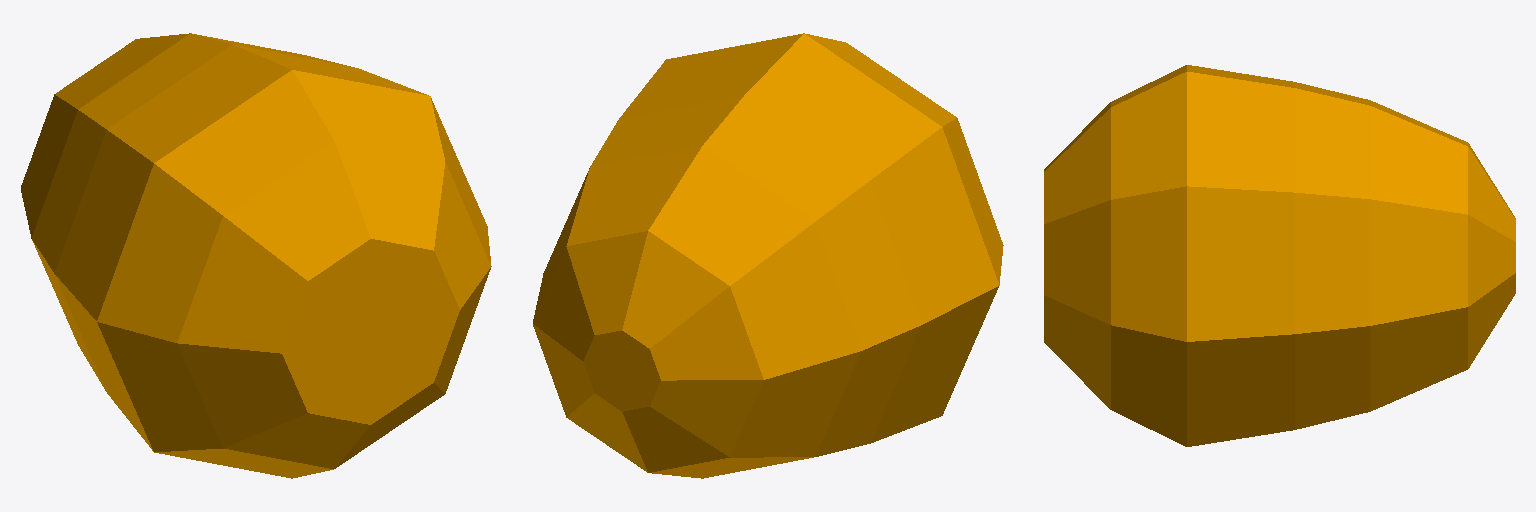
robot.urdf — seeded_black_olive:
<?xml version="1.0"?>
<robot name="seeded_black_olive">
  <link name="seeded_black_olive">
    <inertial>
        <origin rpy="0 0 0" xyz="0 0 0"/>
        <mass value="0.01"/>
        <inertia ixx="4.4e-5" ixy="0" ixz="0" iyy="0" iyz="0" izz="4.4e-5"/>
    </inertial>
    <visual>
      <geometry>
        <mesh filename="BlackOlive.obj"/>
      </geometry>
    </visual>
    <collision>
      <geometry>
        <mesh filename="BlackOlive.obj"/>
      </geometry>
      <surface>
           <bounce restitution_coefficient = "0.1"/>
      </surface>
    </collision>
  </link>
</robot>

--- Facts derived from the render (not from the file) ---
The picture shows the robot from 3 angles, left to right: view 1: azimuth 30°, elevation 25°; view 2: azimuth 150°, elevation 25°; view 3: azimuth 270°, elevation 25°; orthographic projection.
Model seeded_black_olive with 1 links and 0 joints (none), rooted at seeded_black_olive, posed every joint at zero.
Links seen in each view (by area): view 1: seeded_black_olive; view 2: seeded_black_olive; view 3: seeded_black_olive.
Boxes of the visible links, box(x1,y1,x2,y2) form: seeded_black_olive: box(21, 33, 491, 478); seeded_black_olive: box(533, 33, 1003, 478); seeded_black_olive: box(1044, 65, 1515, 446).
Bounding box of the posed robot: 0.0252 × 0.0292 × 0.0252 m (x, y, z).
Meshes: 1 distinct files referenced, 1 mesh visuals loaded (1 OBJ).
